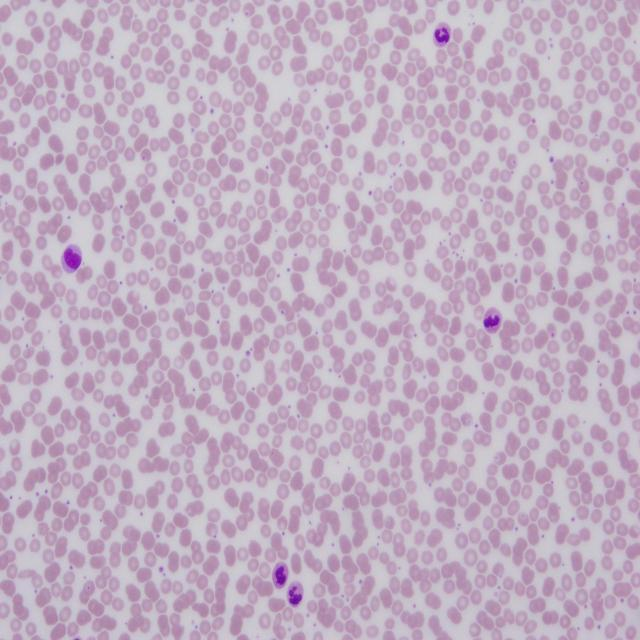cell: (434, 22, 451, 46), (288, 582, 304, 606)
